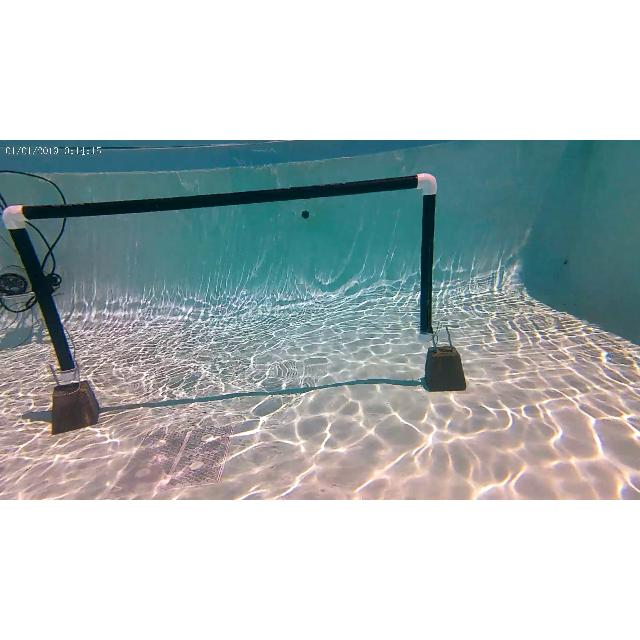prequal gate: (2, 173, 438, 381)
prequal gate leg l: (2, 204, 80, 394)
prequal gate leg r: (416, 173, 438, 344)
